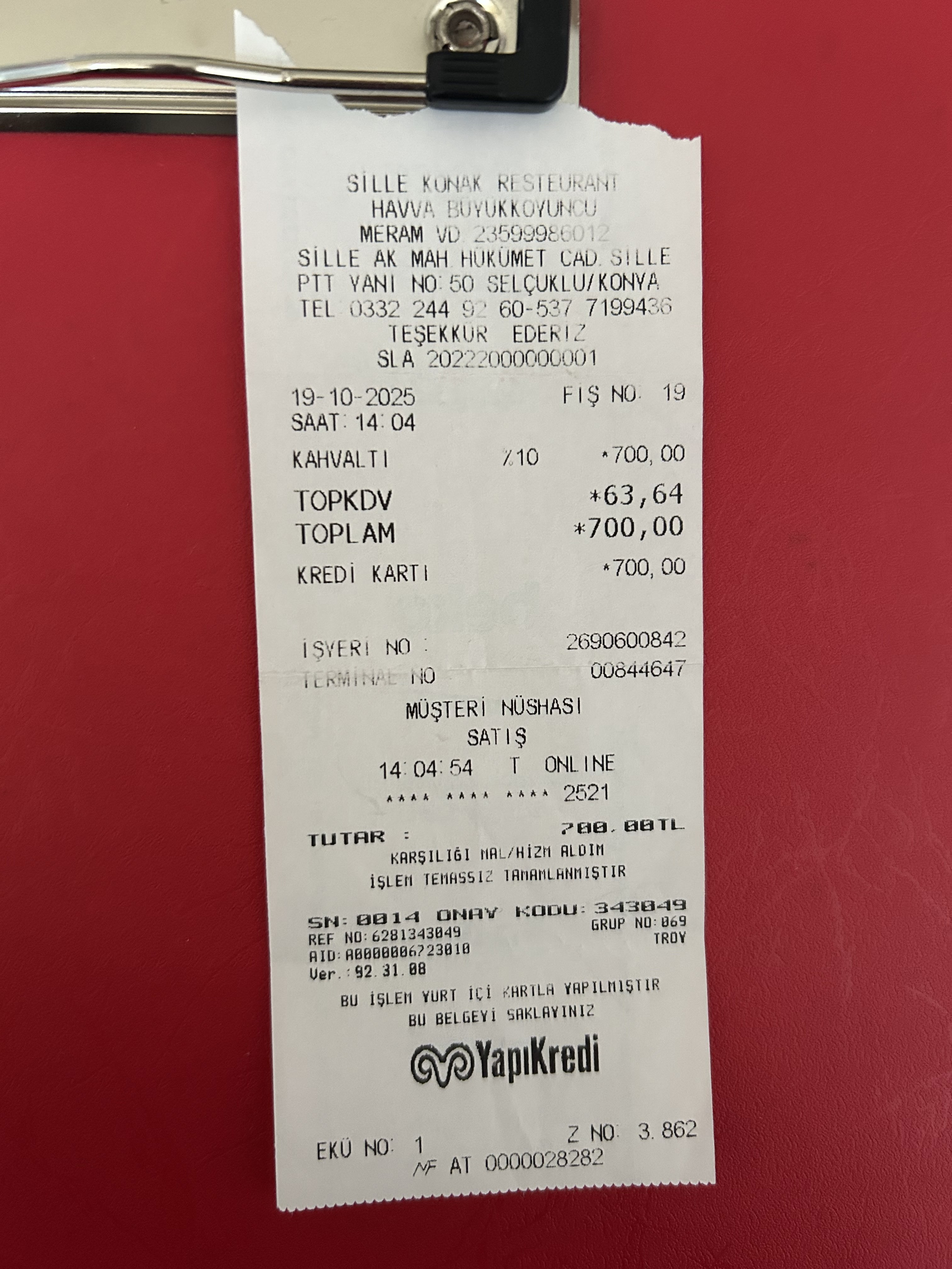date: (583, 509, 692, 545)
price: (284, 379, 421, 414)
workplace: (290, 165, 690, 295)
